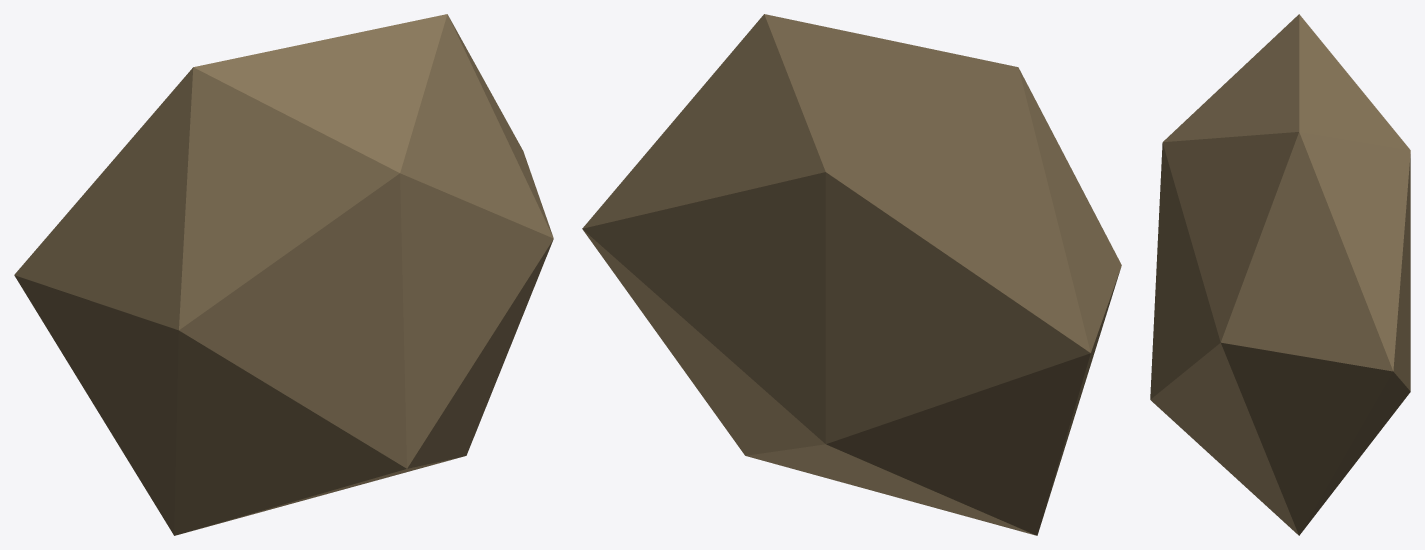
File: pebble.glb
3 renders of one model, left to right at view 1: azimuth 30°, elevation 25°; view 2: azimuth 150°, elevation 25°; view 3: azimuth 270°, elevation 25°, orthographic. The views are drawn at different scales.
Visible parts, largest first — view 1: PebbleMesh; view 2: PebbleMesh; view 3: PebbleMesh.
Boxes of the visible parts, x1,y1,x2,y2 form: PebbleMesh: [14, 14, 553, 535]; PebbleMesh: [582, 14, 1121, 535]; PebbleMesh: [1150, 14, 1410, 535].
Size of the model in its own units: 2 by 1.74 by 1.
